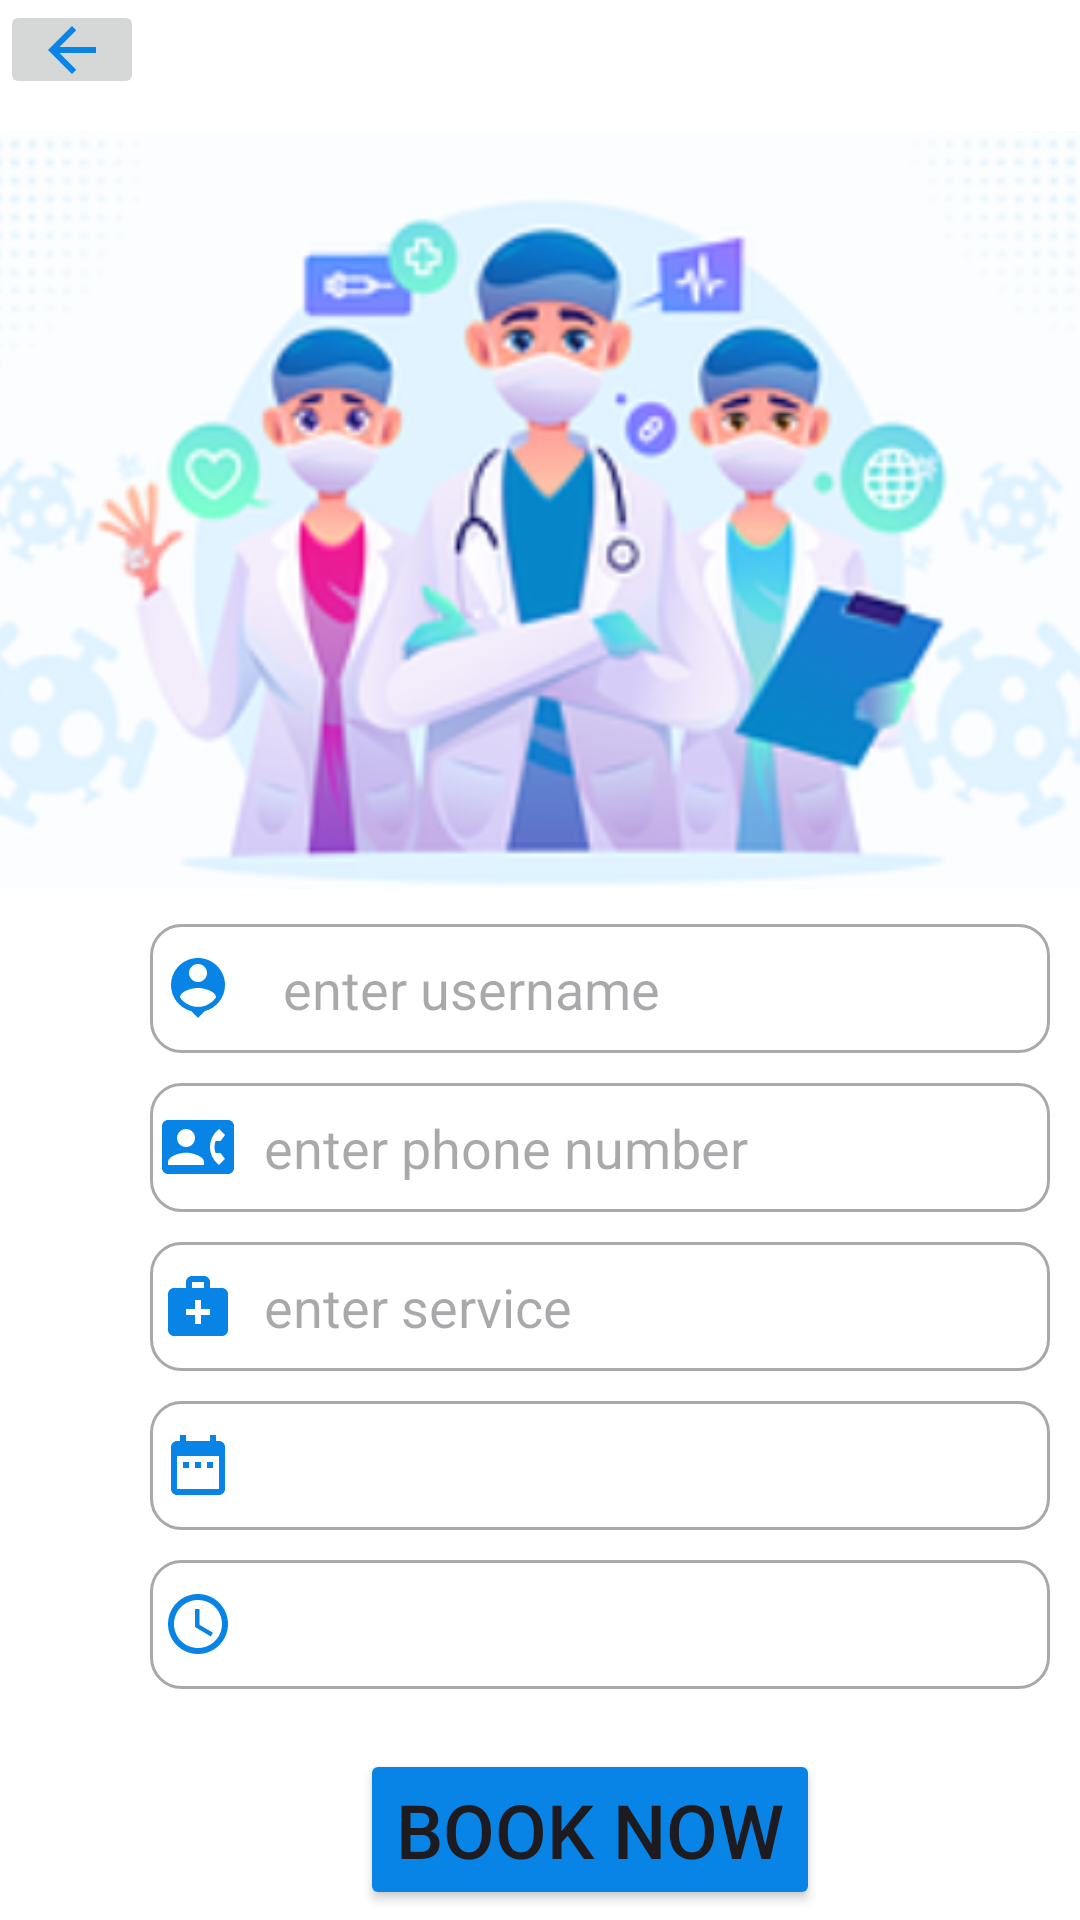

Icons on this 1080px x 1920px Android screen, each with its box as (x1=x1, y1=y1, x2=x2, y2=y2):
back: (x1=12, y1=18, x2=132, y2=81)
